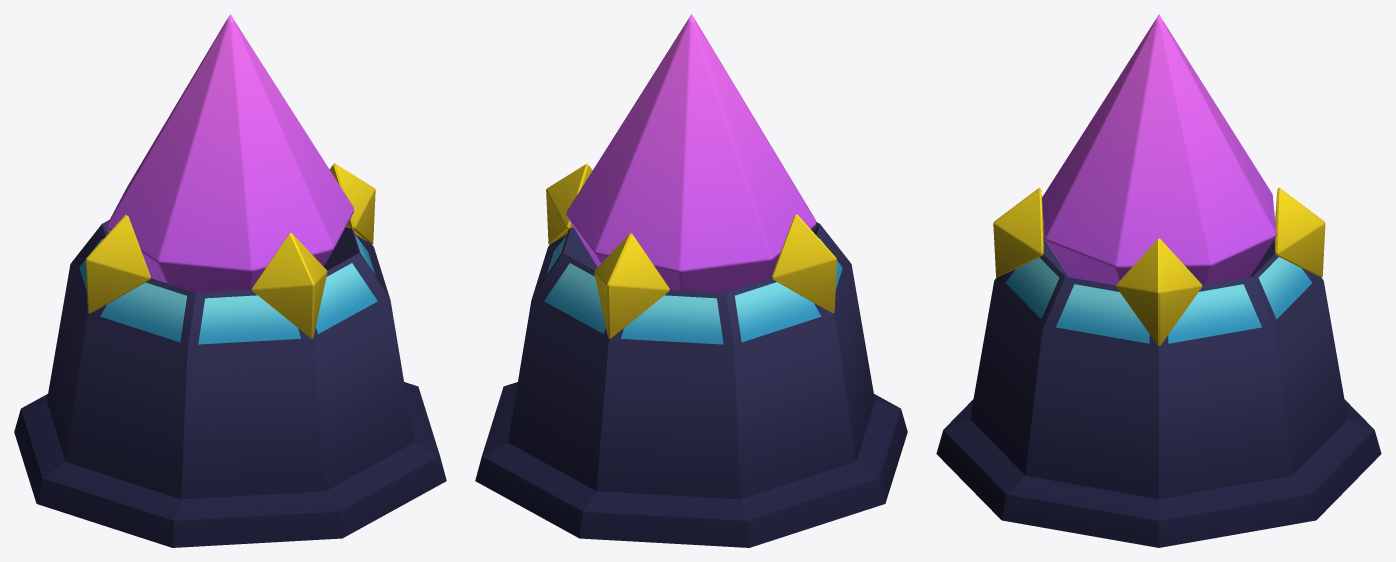
File: generator_03.fbx
3 renders of one model, left to right at view 1: azimuth 30°, elevation 25°; view 2: azimuth 150°, elevation 25°; view 3: azimuth 270°, elevation 25°, orthographic.
Visible parts, largest first — view 1: base, gen_crystal; view 2: base, gen_crystal; view 3: base, gen_crystal.
Part boxes in pixels (box(x1,y1,x2,y2)): base: box(14, 163, 446, 547); gen_crystal: box(107, 14, 353, 292); base: box(475, 163, 907, 547); gen_crystal: box(566, 14, 816, 292); base: box(936, 187, 1381, 547); gen_crystal: box(1042, 14, 1276, 285).
Bounding box in the file's own units: 2.61 × 2.85 × 2.61.
